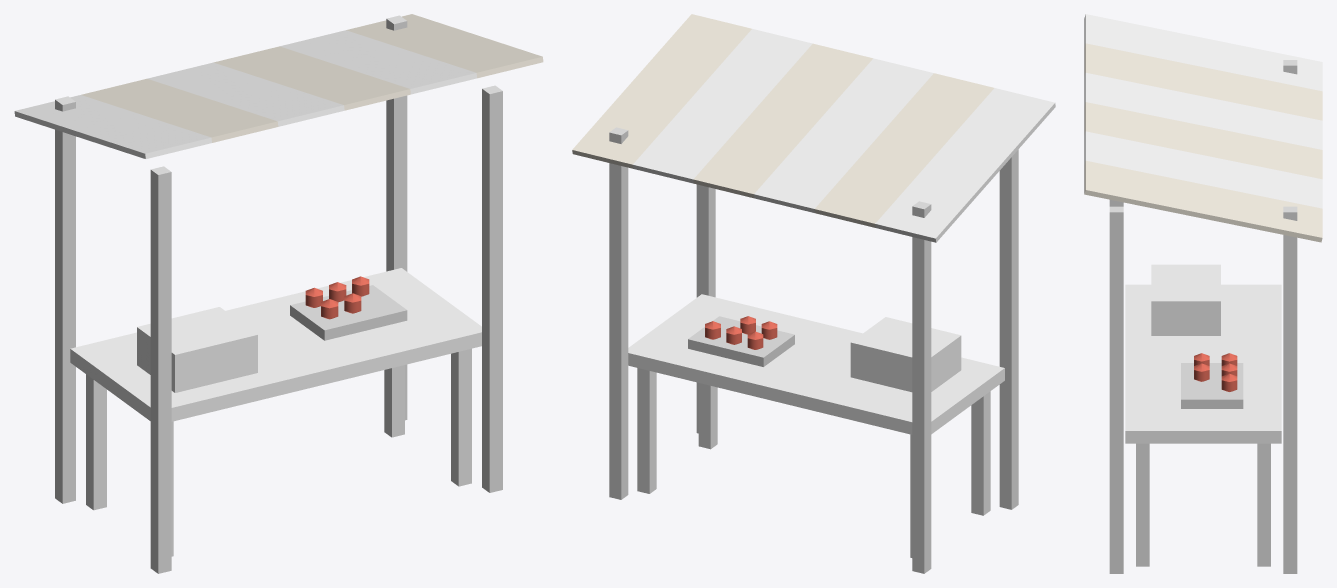
Rendered from market_stall.glb.
3 views of the same model, side by side, from view 1: azimuth 30°, elevation 25°; view 2: azimuth 150°, elevation 25°; view 3: azimuth 270°, elevation 25° (orthographic). The views are drawn at different scales.
Parts seen in each view (by area): view 1: Market_stall; view 2: Market_stall; view 3: Market_stall.
Part boxes in pixels (box(x1,y1,x2,y2)): Market_stall: box(14, 14, 543, 573); Market_stall: box(572, 14, 1055, 573); Market_stall: box(1084, 14, 1322, 573).
Size of the model in its own units: 2.4 by 2.52 by 1.37.
